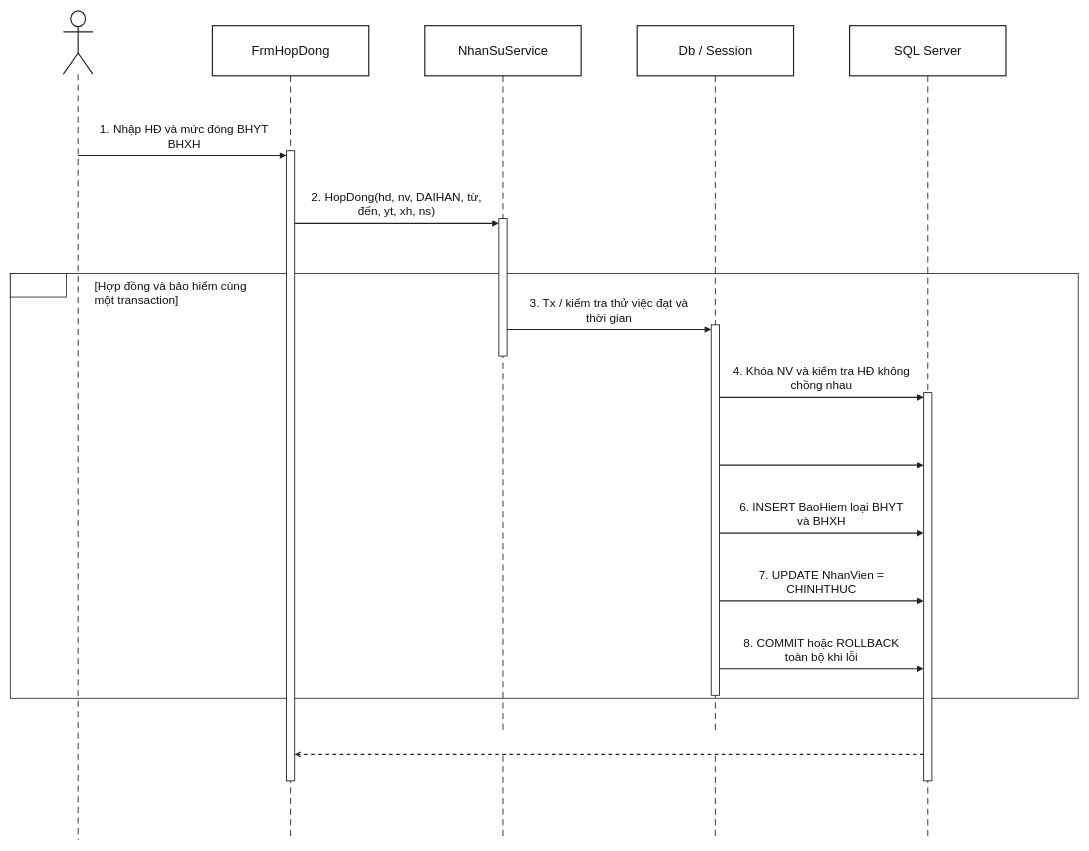
Image size: 1089x851. Some labels were removed from this diagram. The shapes that lost their labels are listed below. From the top down, each one's centre as x and y in pixels, then its label:
At (78,42): "Nhân sự".
At (38,285): "critical".
At (821,453): "5. INSERT HopDong".
At (609,742): "9. Hiển thị HĐ và hai hồ sơ bảo hiểm".
